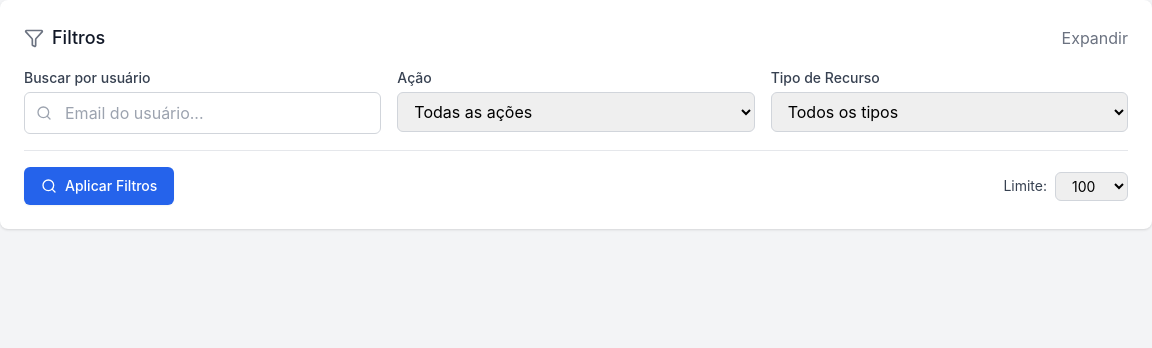
AuditLogsFilters › Estado de Expansão › deve ocultar filtros avançados ao clicar em Ocultar
The image size is (1152, 348).
Expandir primeiro
Click the button "Expandir" at x=1095, y=38, box [1062,26,1128,50]
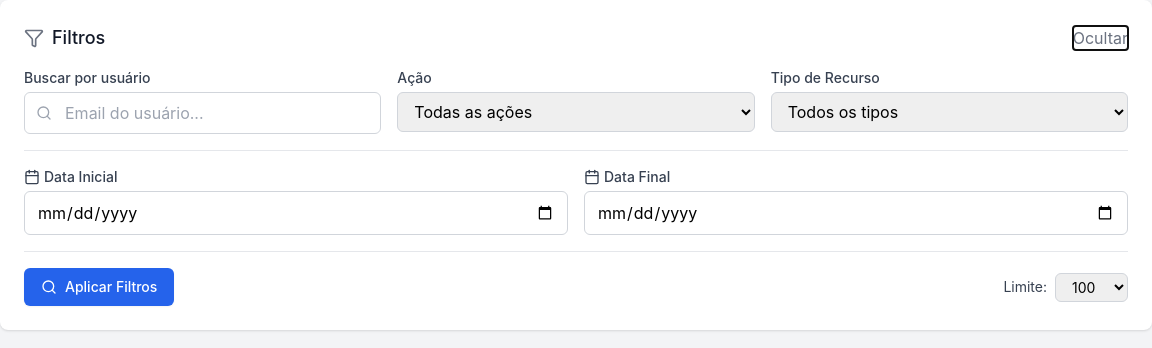
Depois ocultar
Click the button "Ocultar" at x=1100, y=38, box [1073,26,1128,50]
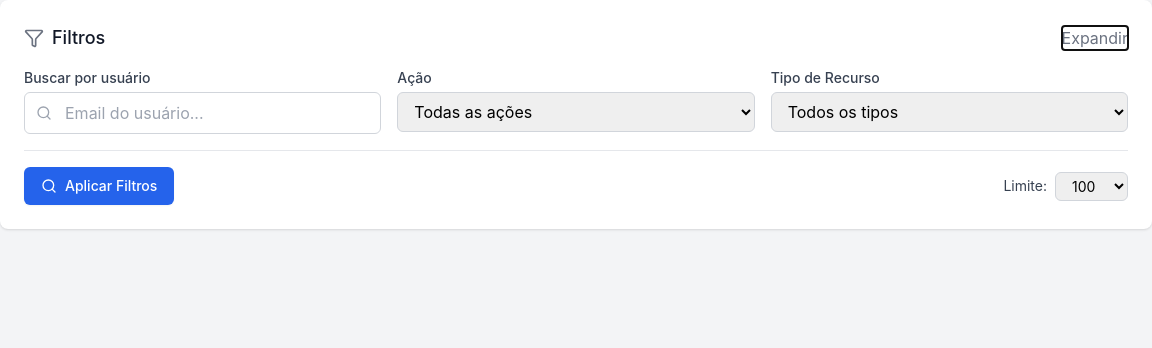
expect the text "Data Inicial" is gone: met
expect the text "Data Final" is gone: met
expect the button "Expandir" is shown: met, box [1062,26,1128,50]
